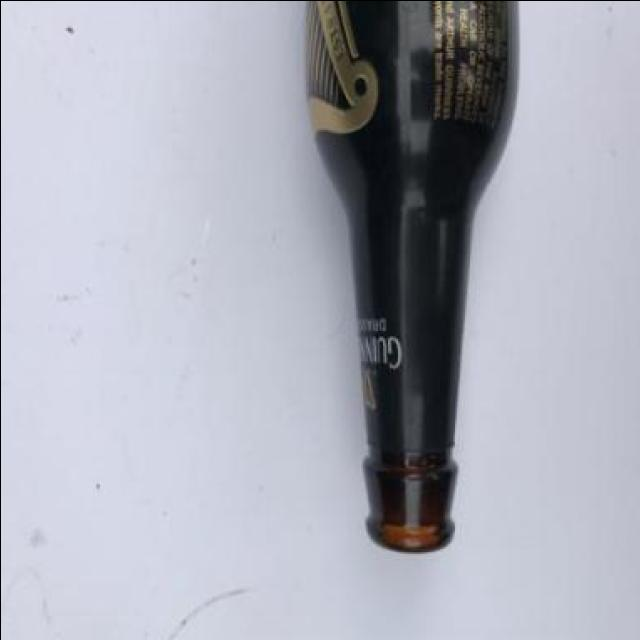kaca: (305, 0, 518, 551)
